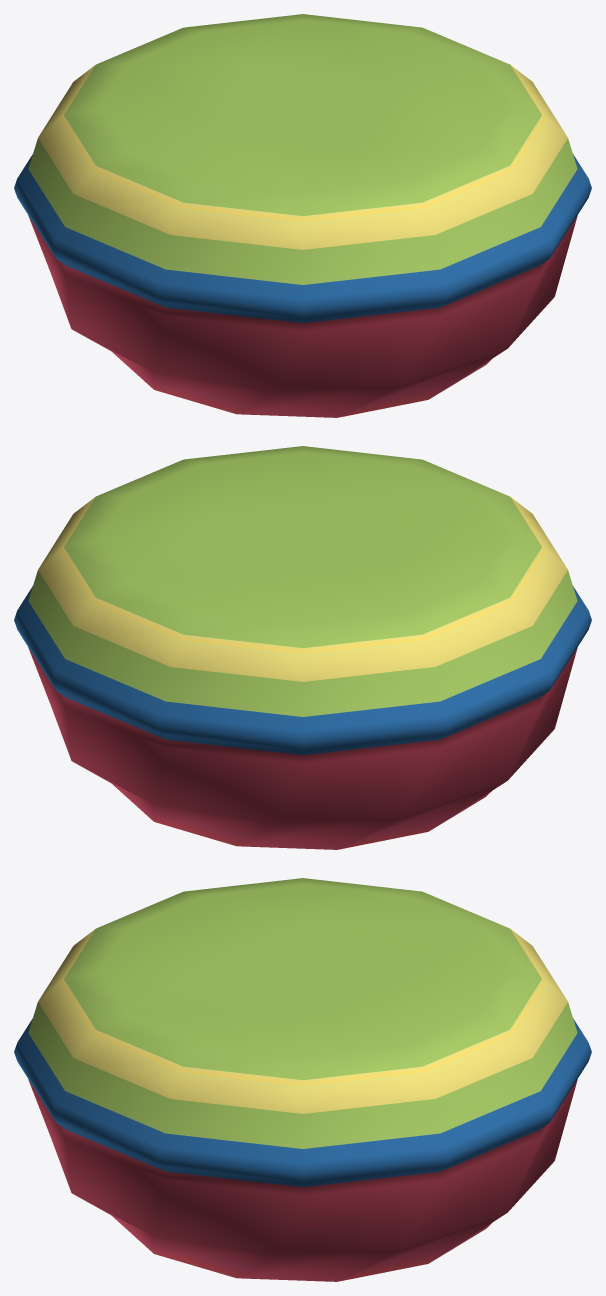
File: jump.fbx
3 views of the same model, one above another, from view 1: azimuth 30°, elevation 25°; view 2: azimuth 150°, elevation 25°; view 3: azimuth 270°, elevation 25° (orthographic).
Visible parts, largest first — view 1: jump; view 2: jump; view 3: jump.
Part boxes in pixels (x1,y1,x2,y2): jump: (14,14,591,417); jump: (14,446,591,849); jump: (14,878,591,1281).
Bounding box in the file's own units: 210 × 100 × 210.
Materials: 1 (1 with a texture image).
